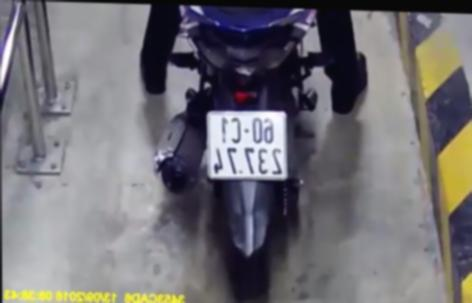License_Plate: (200, 104, 296, 189)
